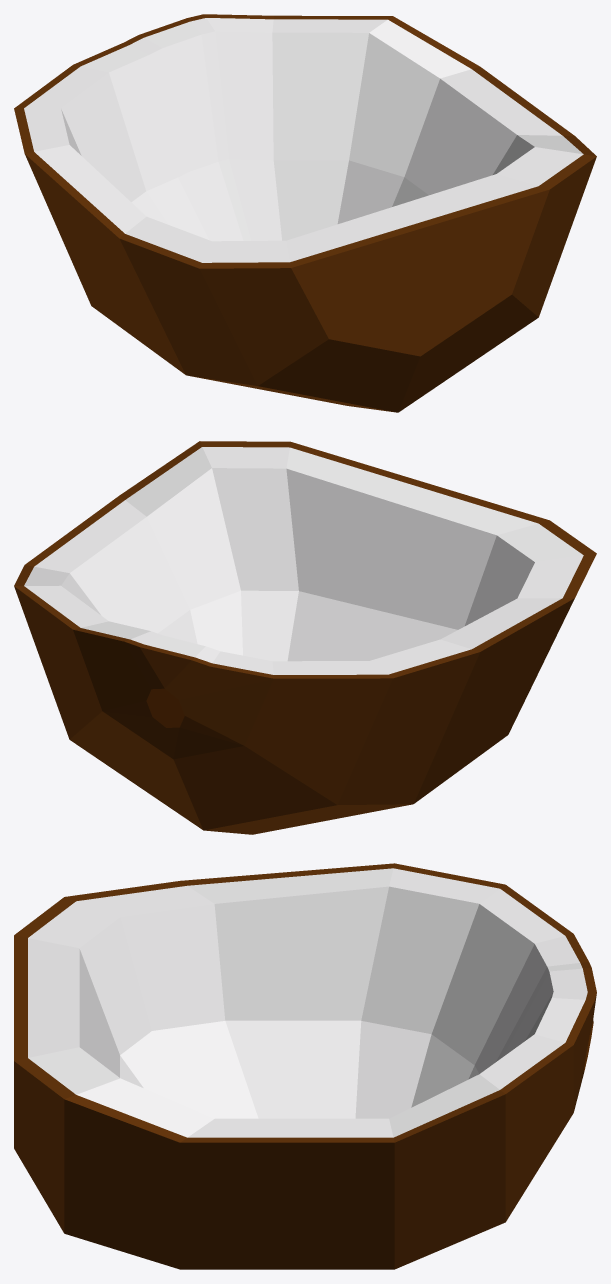
File: coconut02.gltf
The picture shows the model from 3 angles, top to bottom: view 1: azimuth 30°, elevation 25°; view 2: azimuth 150°, elevation 25°; view 3: azimuth 270°, elevation 25°; orthographic projection. The views are drawn at different scales.
Visible parts, largest first — view 1: Cylinder; view 2: Cylinder; view 3: Cylinder.
Boxes of the visible parts, box(x1,y1,x2,y2) form: Cylinder: box(14, 14, 596, 412); Cylinder: box(14, 441, 596, 834); Cylinder: box(14, 863, 596, 1269).
Bounding box in the file's own units: 0.1384 × 0.072 × 0.1353.
1 material, 1 textured.
